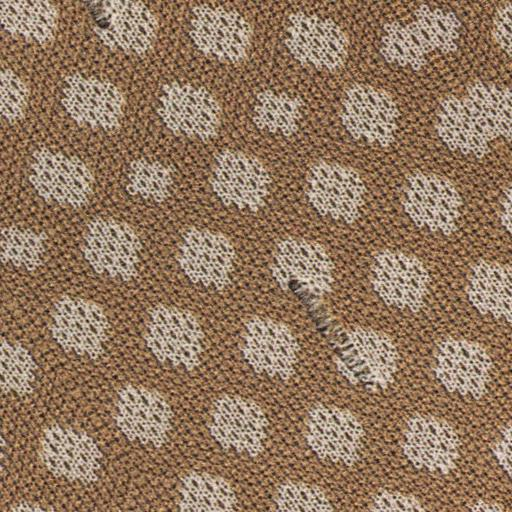slub: (277, 267, 394, 400), (78, 0, 120, 39)
